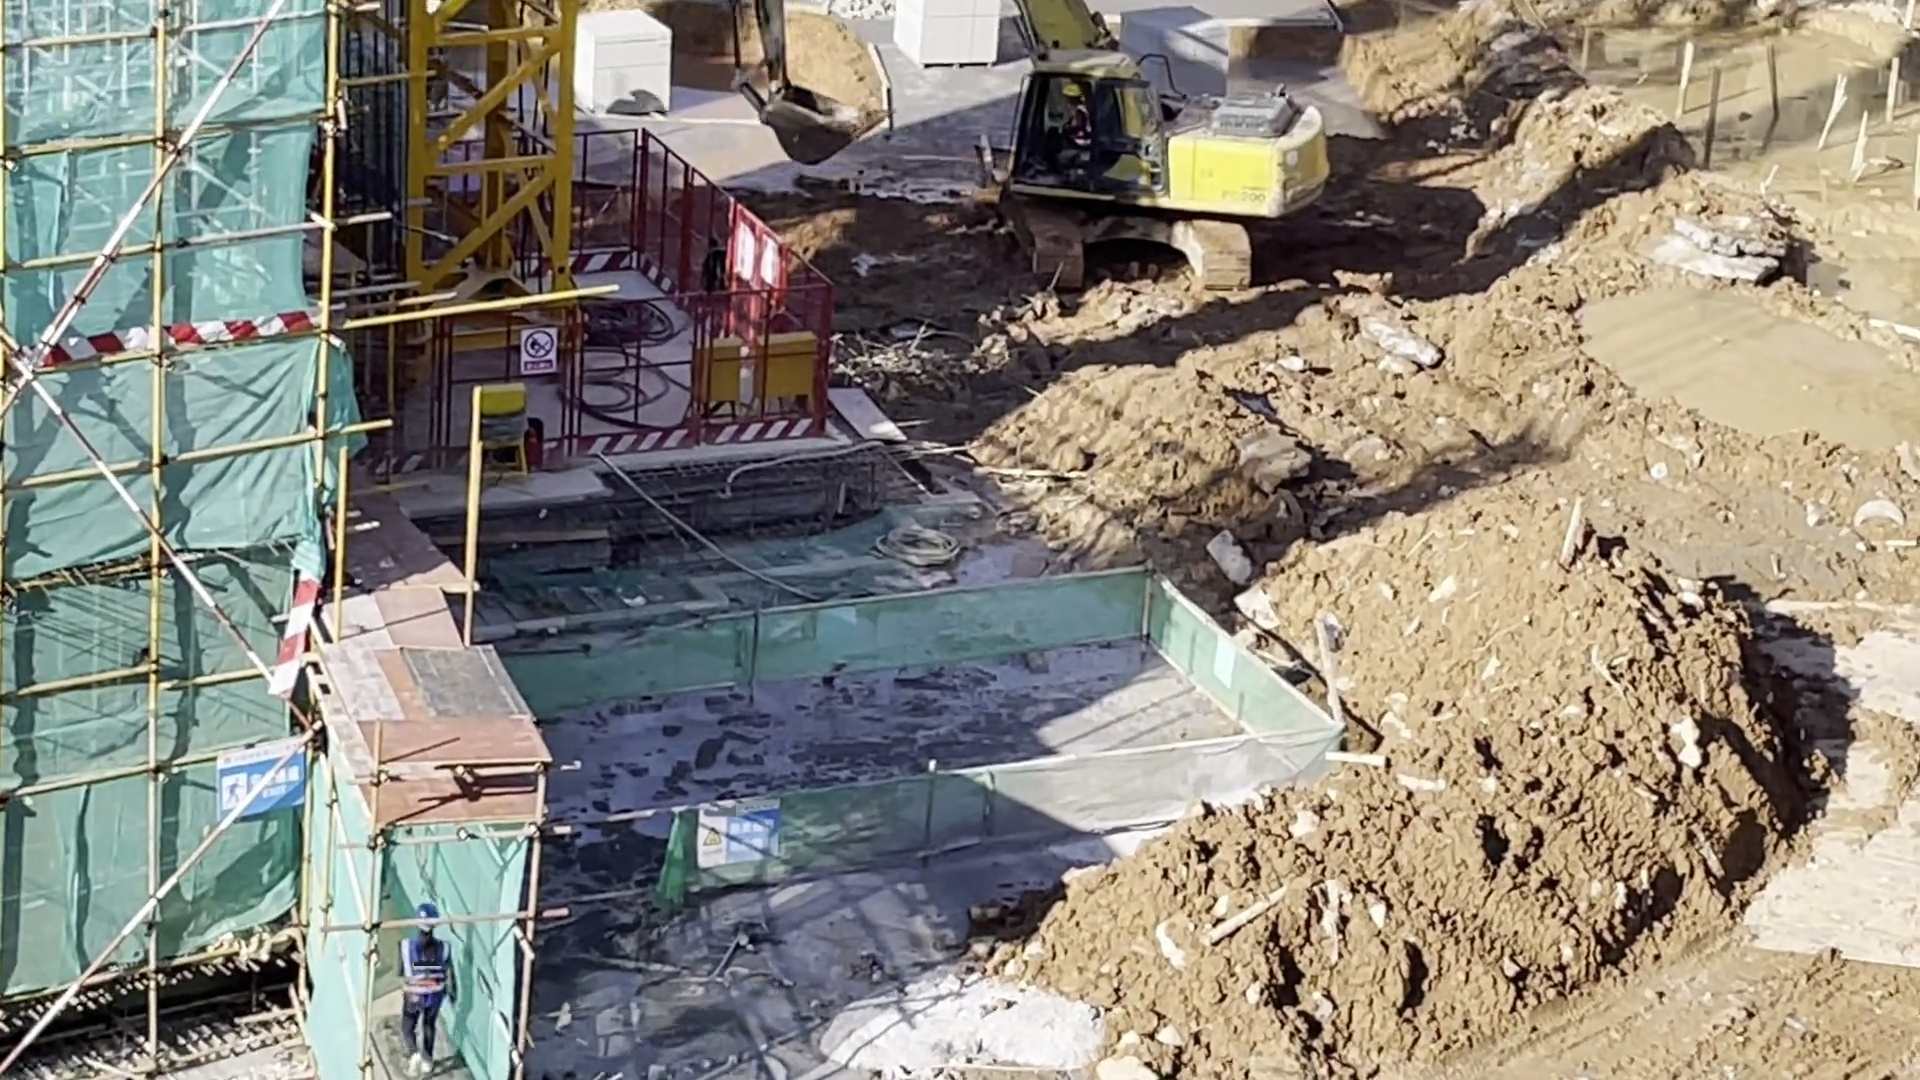brick: (585, 19, 696, 120), (1128, 8, 1233, 91), (898, 1, 1007, 76)
ebox: (698, 349, 750, 417), (763, 337, 815, 405)
helmet: (417, 911, 443, 940), (1065, 86, 1081, 102)
person: (395, 905, 481, 1080), (1056, 79, 1090, 176)
slogan: (223, 762, 306, 821), (702, 817, 786, 871), (519, 335, 564, 381)
vest: (390, 948, 455, 1014), (1066, 106, 1087, 163)
